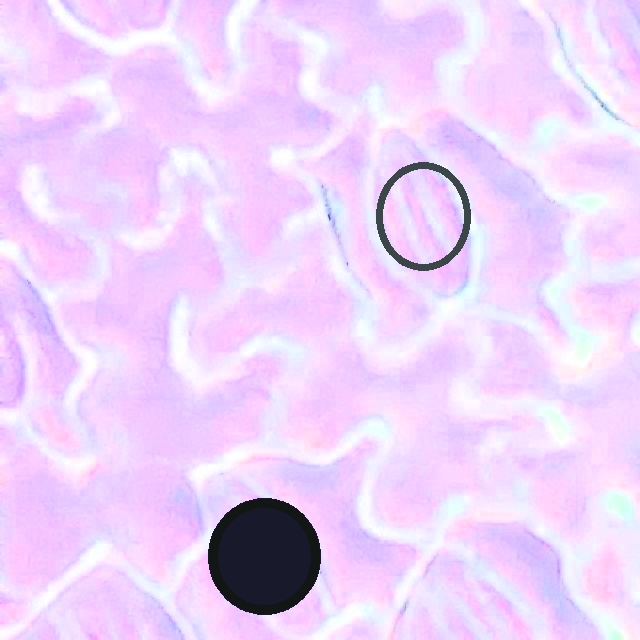open: (208, 497, 319, 614), (376, 161, 471, 270)
